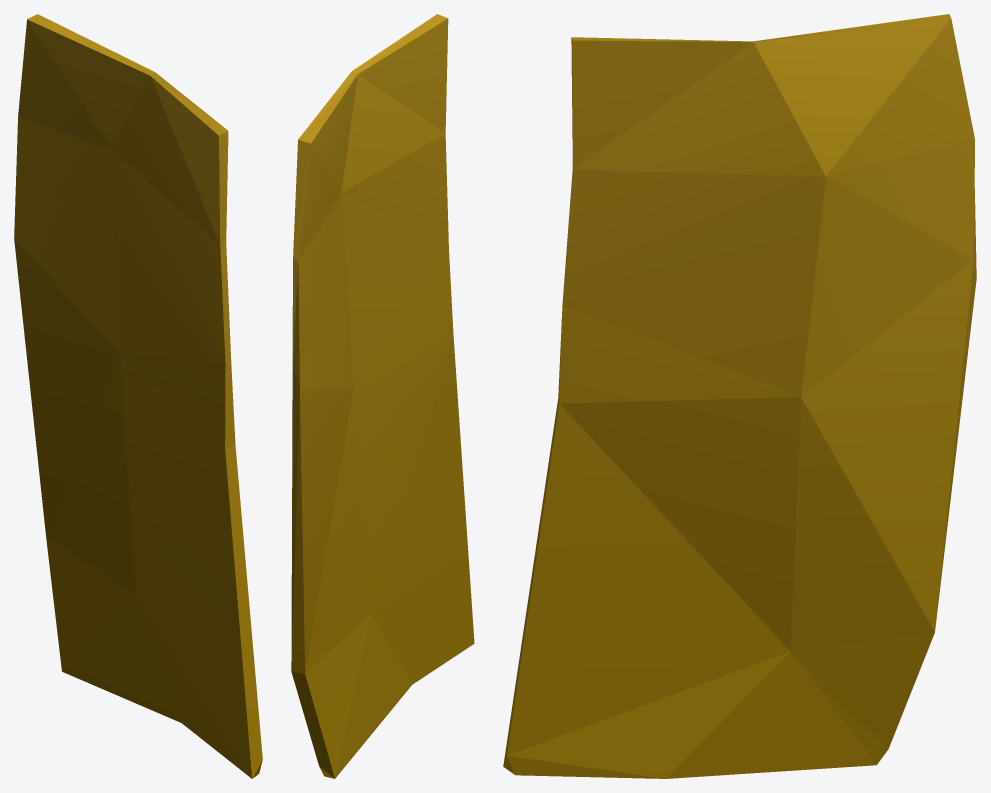
Rendered from Cloth_Yellow.gltf.
The picture shows the model from 3 angles, left to right: view 1: azimuth 30°, elevation 25°; view 2: azimuth 150°, elevation 25°; view 3: azimuth 270°, elevation 25°; orthographic projection. The views are drawn at different scales.
Parts seen in each view (by area): view 1: Cloth_Yellow; view 2: Cloth_Yellow; view 3: Cloth_Yellow.
Boxes of the visible parts, left/top/right/bottom form: Cloth_Yellow: left=14, top=14, right=262, bottom=778; Cloth_Yellow: left=291, top=14, right=474, bottom=778; Cloth_Yellow: left=503, top=14, right=976, bottom=778.
Size of the model in its own units: 0.0675 by 0.6513 by 0.3761.
Materials: 1 (1 with a texture image).
